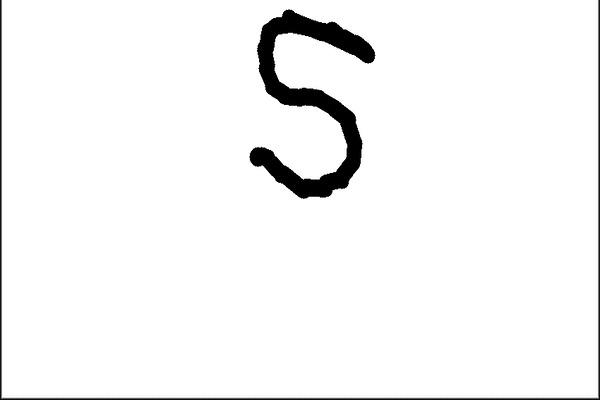S: (241, 5, 384, 203)
